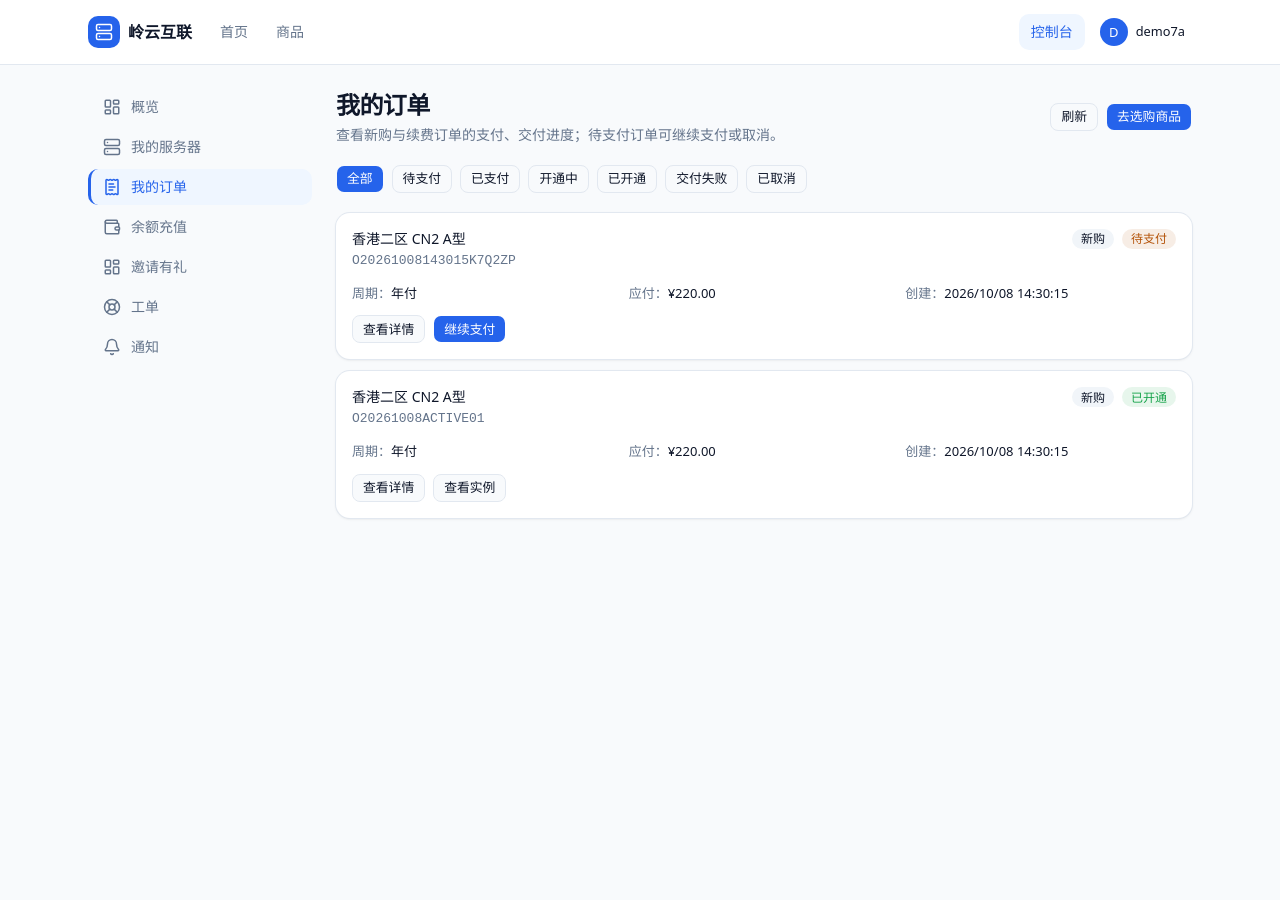
Test case: 会员区 · 我的订单 › 展开详情展示配置快照与金额明细
This screenshot has width=1280, height=900.
Expected: the heading "我的订单" is shown, x1=336 y1=88 x2=430 y2=121
Click the button "查看详情" below "O20261008143015K7Q2ZP" at point(389, 329), box x1=352 y1=315 x2=425 y2=343
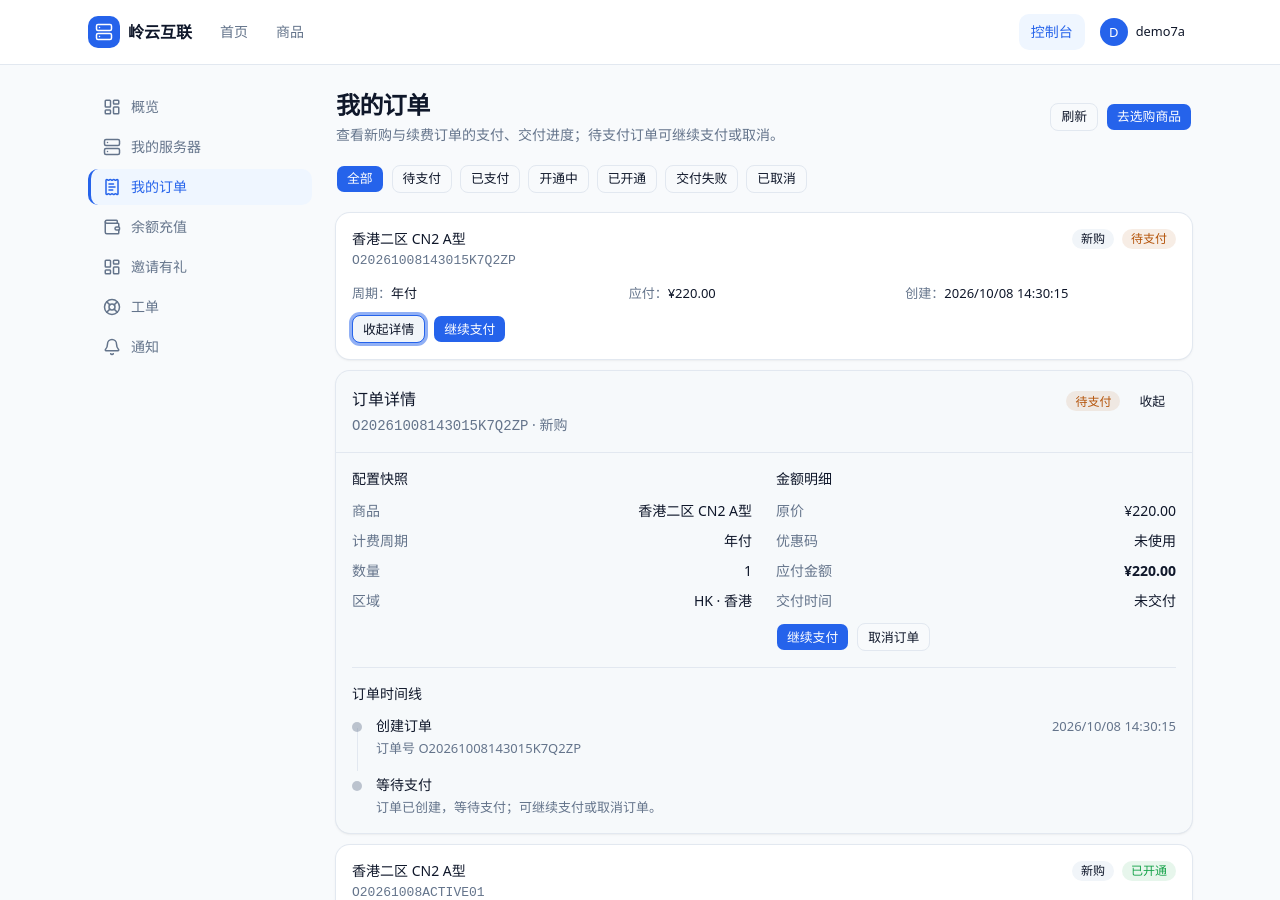
Expected: the text "配置快照" is shown, x1=352 y1=469 x2=408 y2=488
Expected: the text "区域" is shown, x1=352 y1=591 x2=380 y2=611
Expected: the text "HK · 香港" is shown, x1=694 y1=591 x2=752 y2=611
